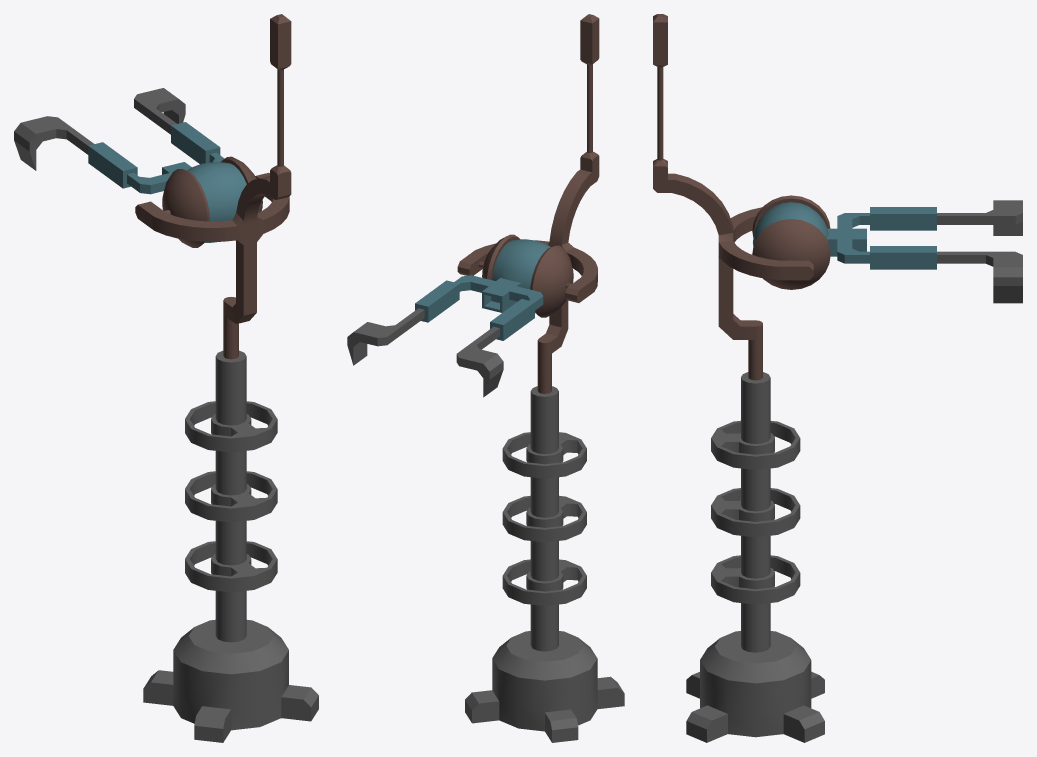
File: arc_tower_001.fbx
3 views of the same model, side by side, from view 1: azimuth 30°, elevation 25°; view 2: azimuth 150°, elevation 25°; view 3: azimuth 270°, elevation 25° (orthographic). The views are drawn at different scales.
Visible parts, largest first — view 1: base, turret_y, turret_x, recoil; view 2: base, turret_y, turret_x, recoil; view 3: base, turret_y, turret_x, recoil.
Boxes of the visible parts, x1,y1,x2,y2 form: base: (143, 350, 318, 742); turret_y: (135, 14, 291, 359); turret_x: (88, 122, 246, 242); recoil: (14, 88, 185, 170); base: (465, 386, 624, 742); turret_y: (457, 14, 599, 393); turret_x: (415, 239, 550, 340); recoil: (347, 308, 503, 397); base: (686, 372, 824, 742); turret_y: (653, 14, 830, 380); turret_x: (752, 202, 936, 269); recoil: (937, 200, 1022, 303).
Size of the model in its own units: 117 by 519 by 249.
